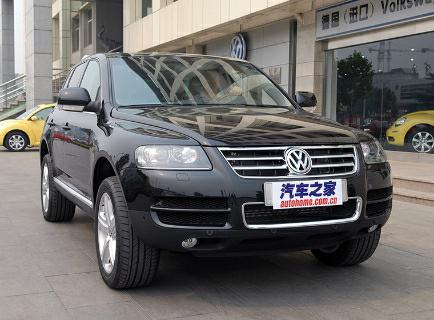大众-途锐: (39, 47, 398, 297)
